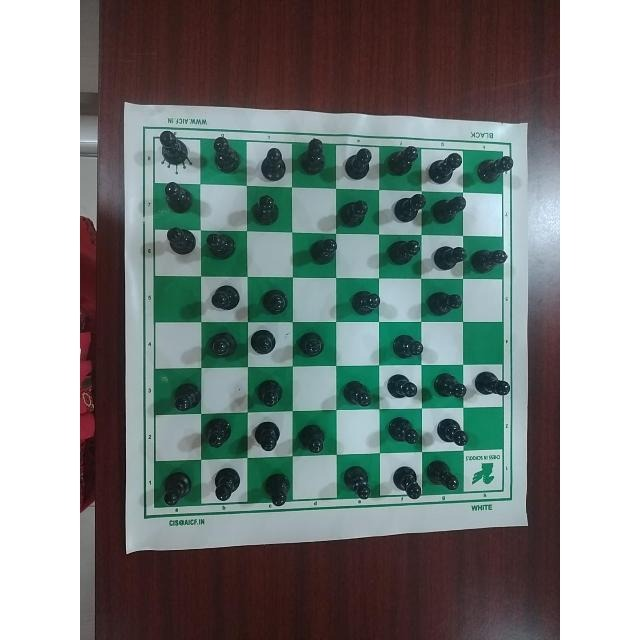black-pawn: (153, 466, 193, 510), (471, 148, 514, 188), (161, 376, 203, 416), (205, 132, 242, 177), (384, 411, 424, 452), (337, 463, 375, 505), (427, 145, 463, 189), (340, 141, 374, 185), (431, 414, 470, 452), (256, 467, 291, 509), (157, 181, 195, 219), (388, 462, 424, 502), (384, 141, 418, 183), (380, 235, 422, 269), (210, 463, 242, 507), (429, 238, 468, 274), (471, 241, 510, 277), (296, 134, 327, 179), (156, 225, 197, 259), (155, 129, 189, 169), (204, 280, 241, 316), (388, 189, 426, 224), (426, 459, 461, 496), (251, 418, 285, 456), (473, 366, 512, 399), (250, 190, 282, 230), (387, 331, 427, 363), (335, 194, 370, 230), (430, 192, 466, 227), (254, 143, 286, 182), (429, 370, 469, 401), (203, 329, 239, 363), (340, 376, 374, 412), (295, 418, 328, 455), (426, 286, 464, 318), (204, 417, 236, 455), (204, 228, 238, 263), (343, 287, 382, 317), (384, 373, 420, 405), (305, 235, 338, 268), (250, 329, 282, 363), (251, 377, 283, 411), (257, 287, 290, 319), (295, 331, 326, 363)
